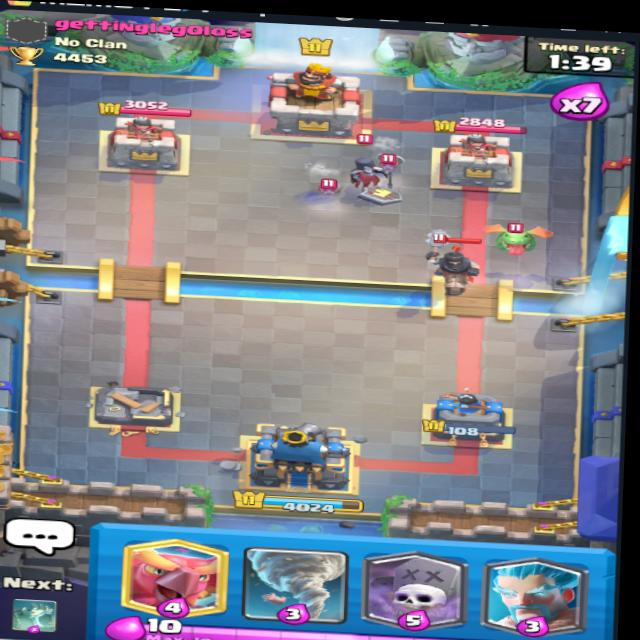Babydragon: (489, 210, 555, 254)
Bat: (313, 175, 347, 199), (372, 150, 400, 172)
Darkprince: (421, 219, 495, 284)
Nightwitch: (340, 135, 390, 193)
